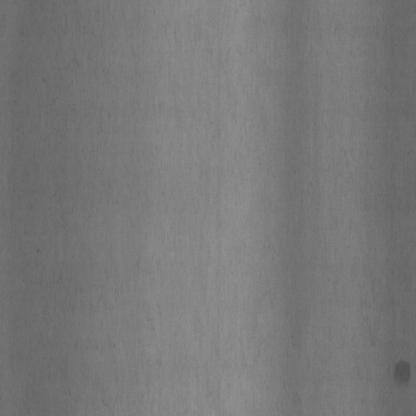oil_spot: (392, 359, 411, 394)
